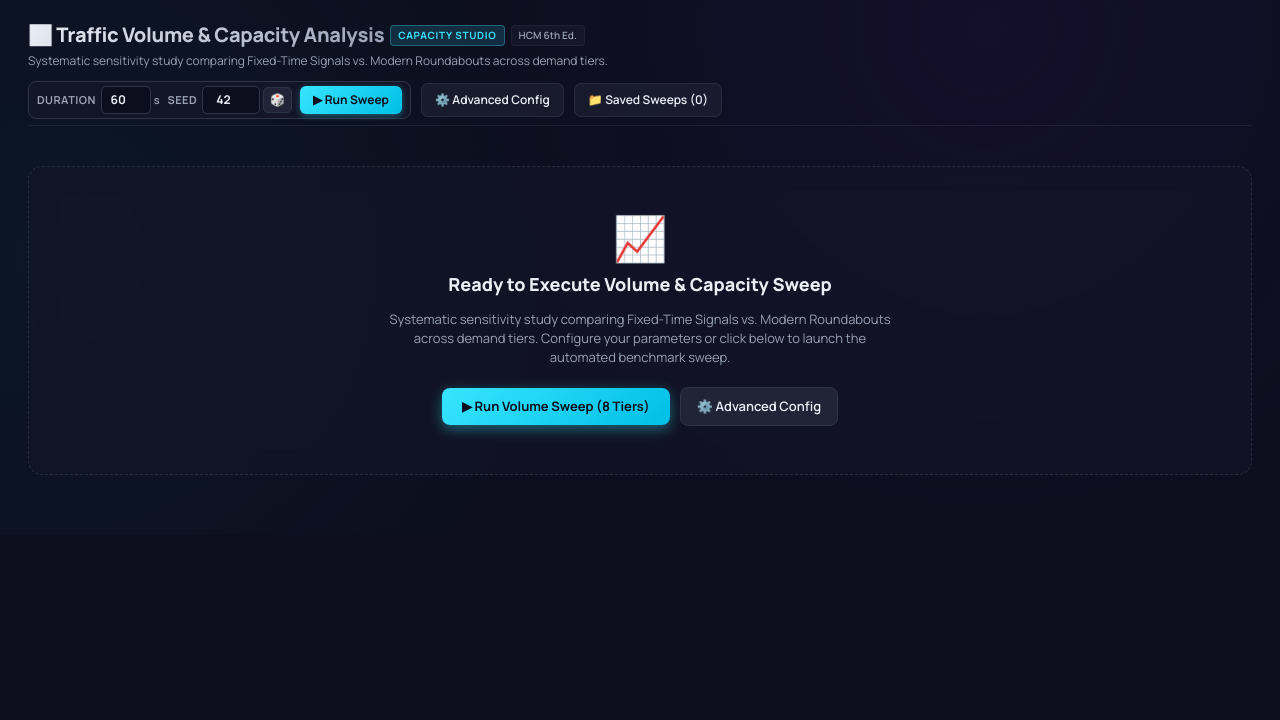
VolumeAnalysisDashboard › shows saved sweeps after loading
This screenshot has width=1280, height=720.
What coordinates should you click on to do the following:
click the button "📁 Saved Sweeps (0)"
I would click on:
 (648, 100)
Its box is [574,83,722,117].
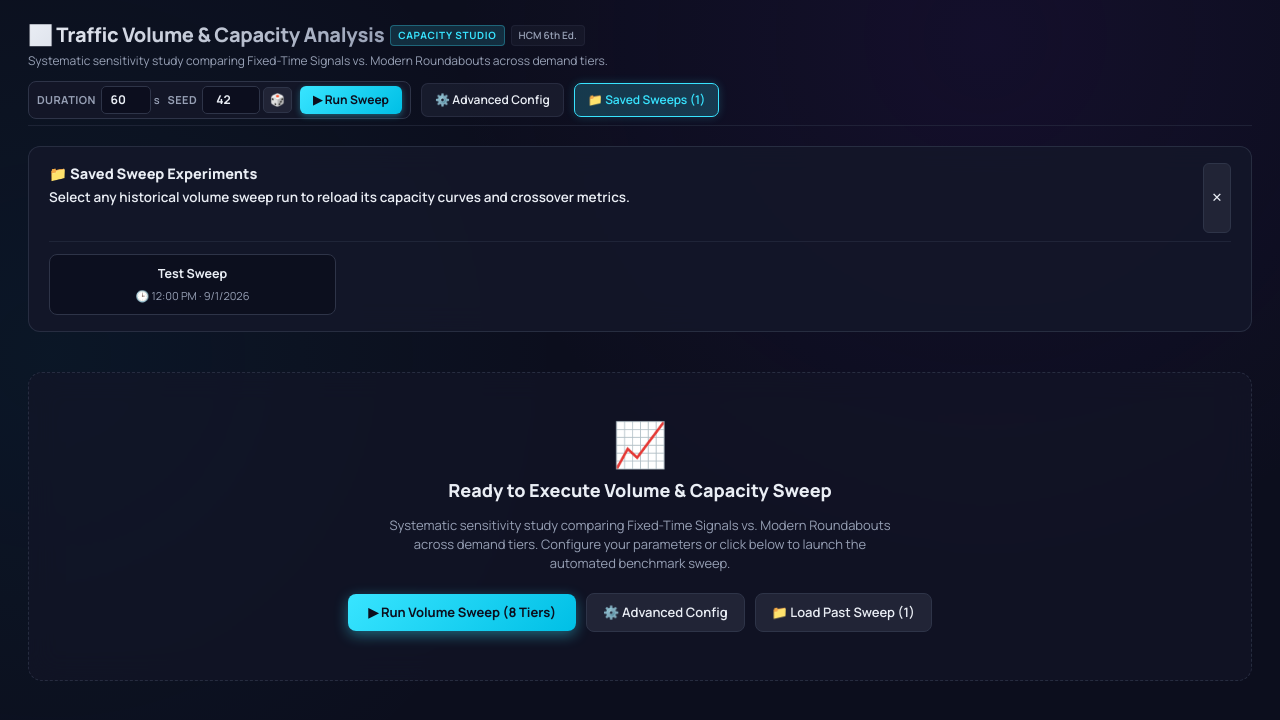
Expected: the text "Test Sweep" is shown, [158,265,227,284]
